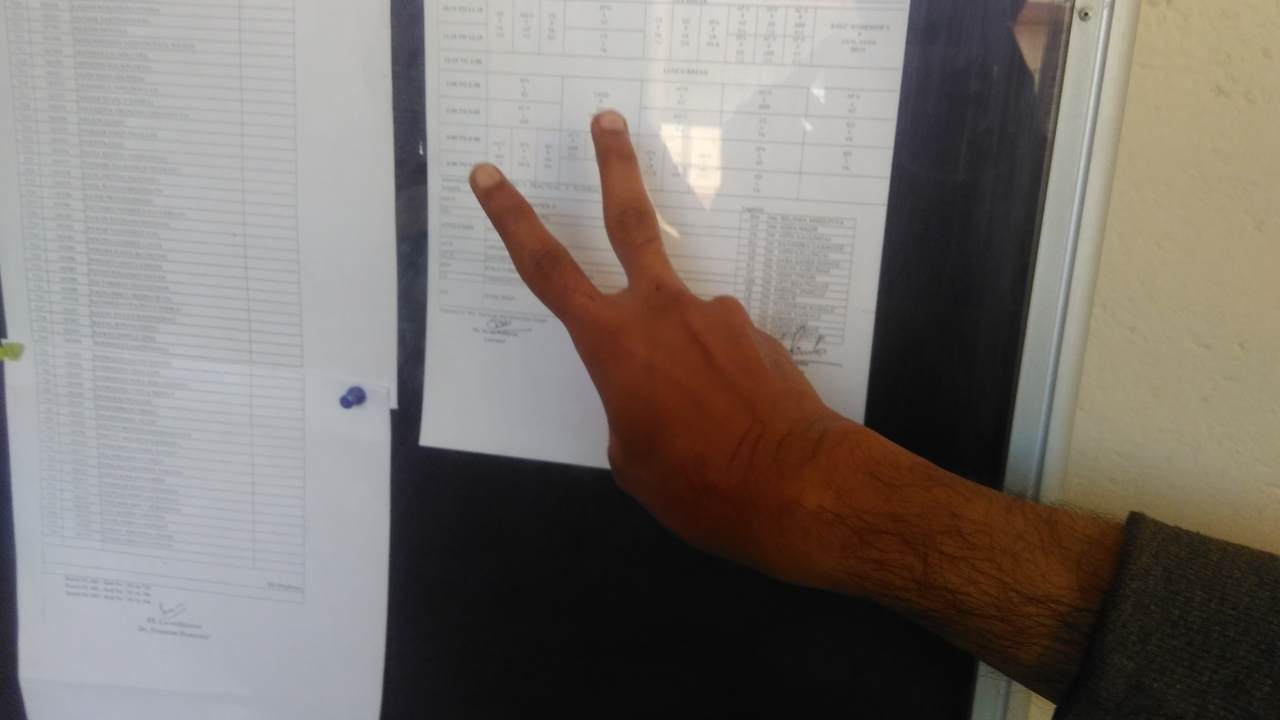fingertip: (458, 154, 516, 202), (586, 102, 630, 142)
